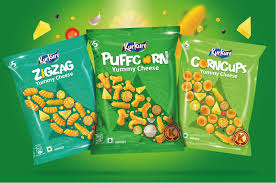kurkure: (37, 51, 59, 64), (121, 42, 147, 50), (207, 48, 232, 55)
plastic: (83, 25, 191, 160), (3, 26, 100, 168), (171, 41, 270, 156)
wrapper: (84, 25, 190, 154), (168, 35, 270, 157), (14, 29, 97, 170)
